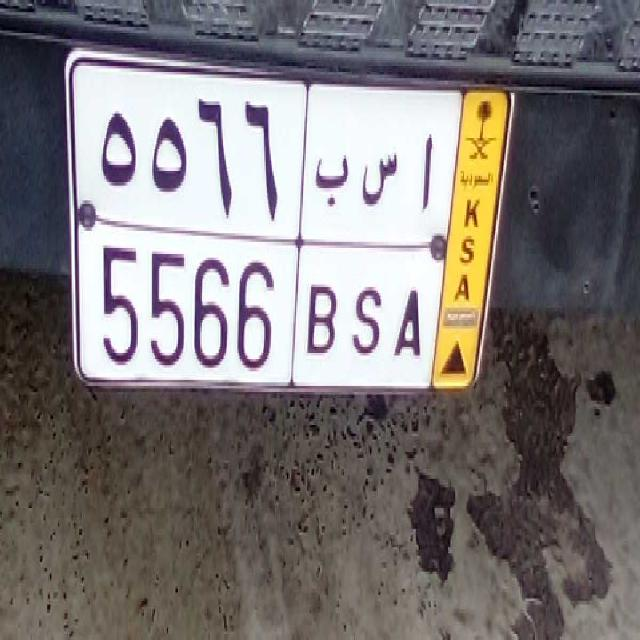license_plate: (89, 222, 430, 397)
